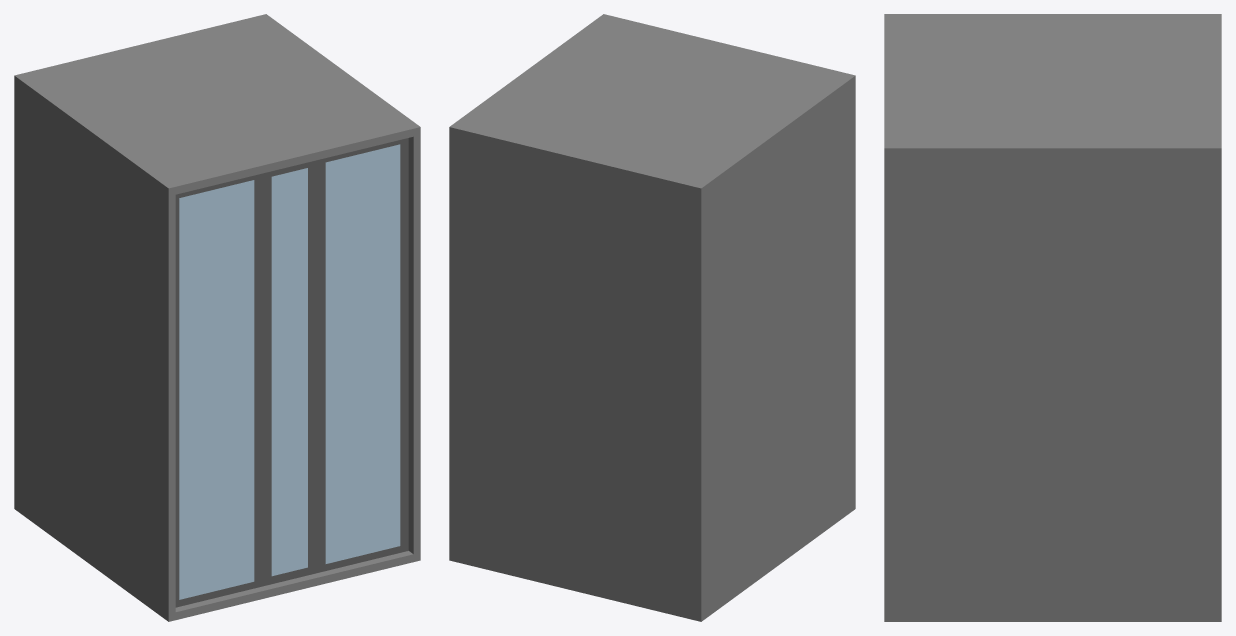
File: server.fbx
3 views of the same model, side by side, from view 1: azimuth 30°, elevation 25°; view 2: azimuth 150°, elevation 25°; view 3: azimuth 270°, elevation 25° (orthographic). The views are drawn at different scales.
Visible parts, largest first — view 1: serverRack, door.001; view 2: serverRack; view 3: serverRack.
Boxes of the visible parts, bbox=[...] form: serverRack: bbox=[14, 14, 420, 621]; door.001: bbox=[175, 138, 408, 607]; serverRack: bbox=[449, 14, 855, 621]; serverRack: bbox=[884, 14, 1221, 621].
Bounding box in the file's own units: 212 × 225 × 349.
